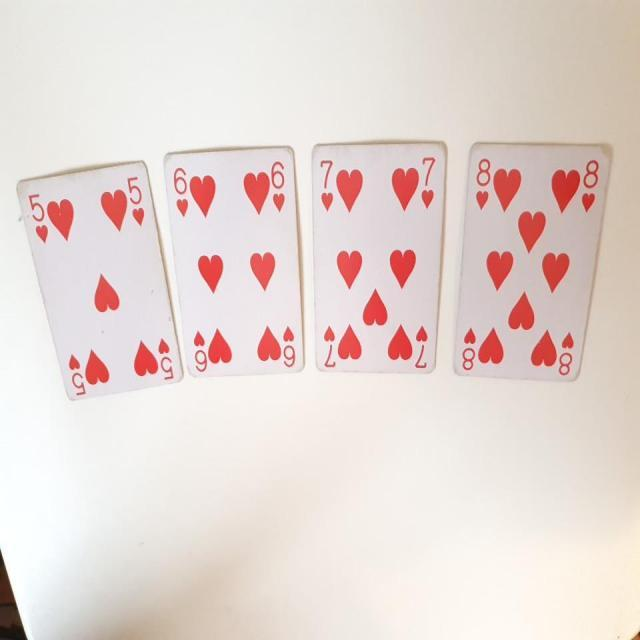5 of hearts: (11, 152, 186, 412)
6 of hearts: (162, 139, 311, 385)
7 of hearts: (304, 135, 456, 381)
8 of hearts: (453, 126, 612, 396)
